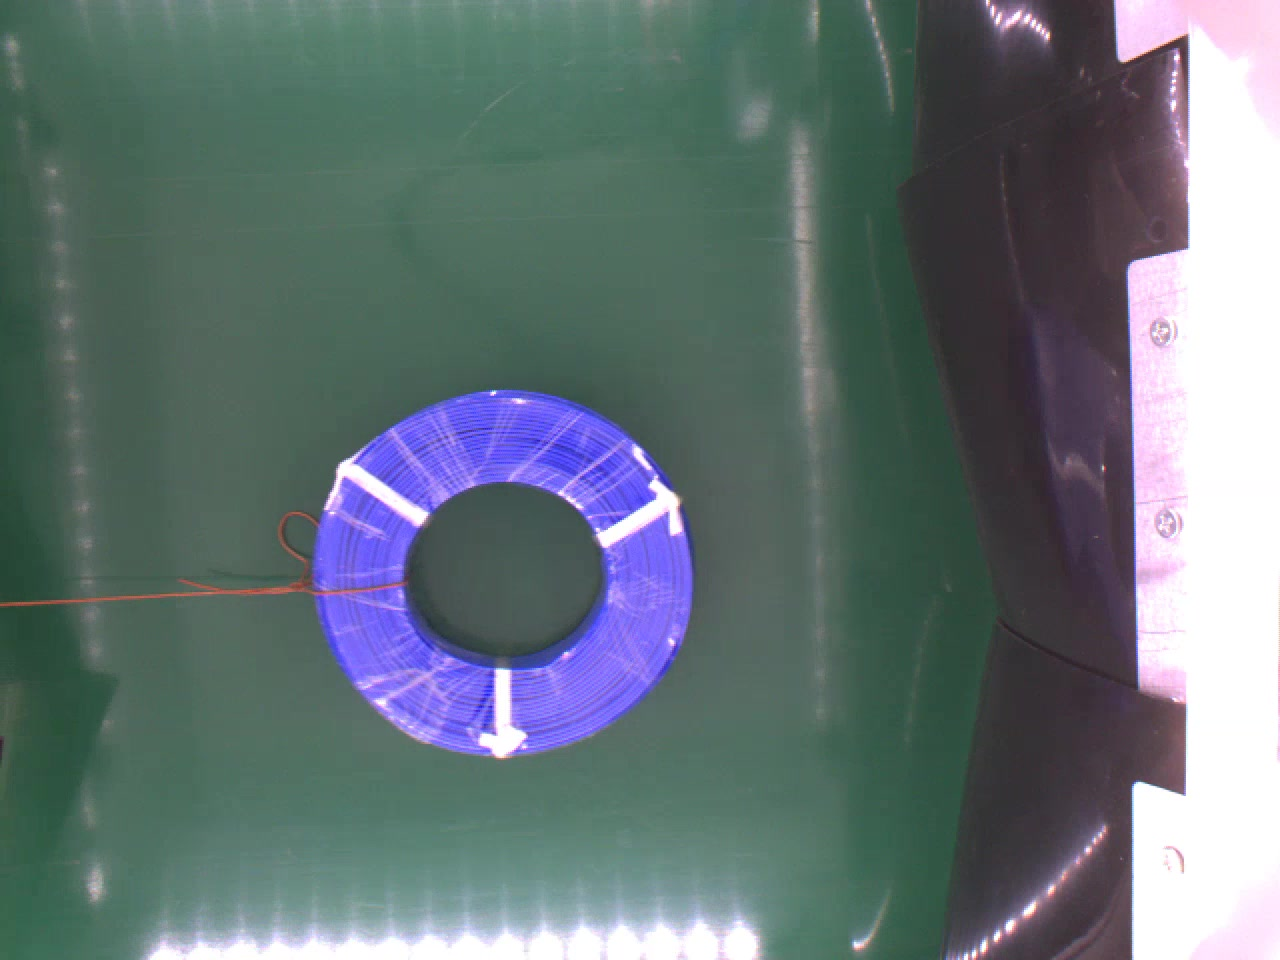blue: (315, 385, 696, 753)
